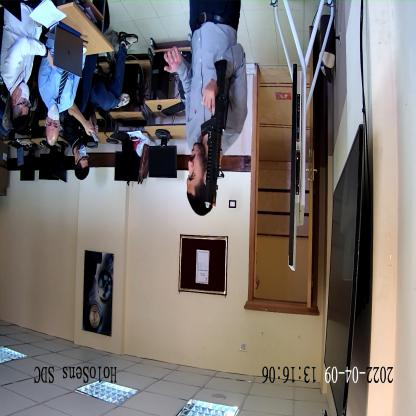handgun: (201, 55, 233, 212)
